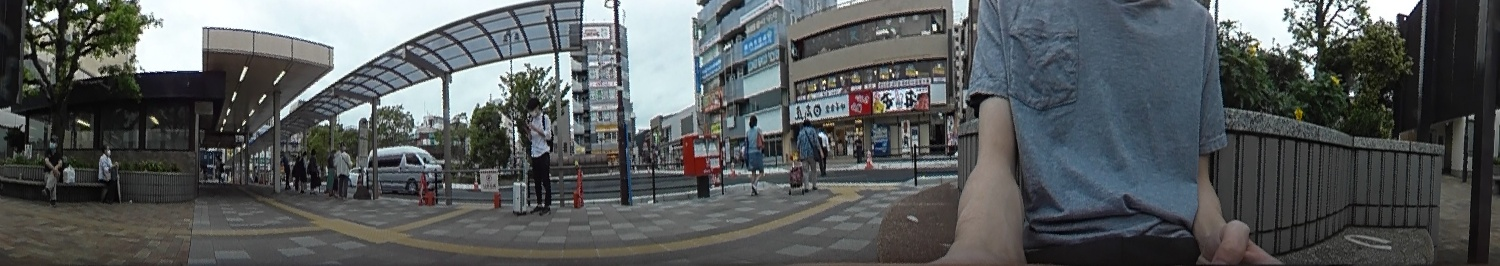difficult_person: (333, 144, 352, 195), (307, 147, 320, 193), (818, 128, 829, 176), (278, 153, 291, 188), (297, 152, 307, 187)
person: (517, 99, 550, 214), (740, 113, 764, 196), (794, 118, 821, 191), (97, 143, 120, 202), (44, 136, 64, 201)
